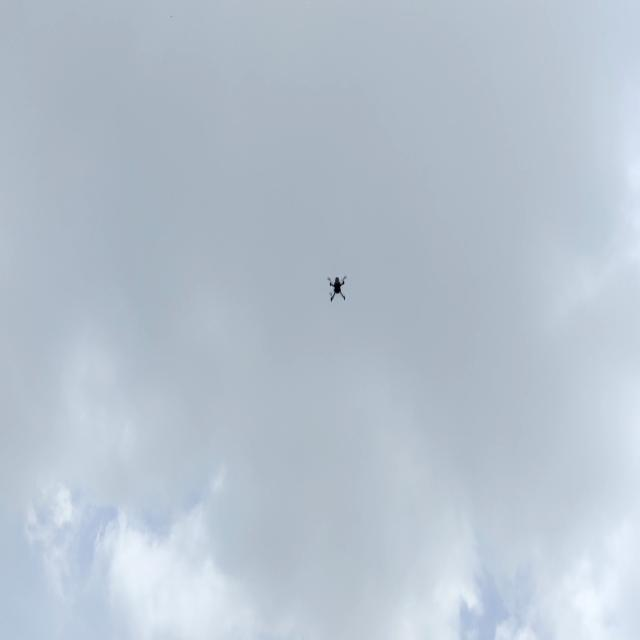drone: (324, 268, 352, 307)
